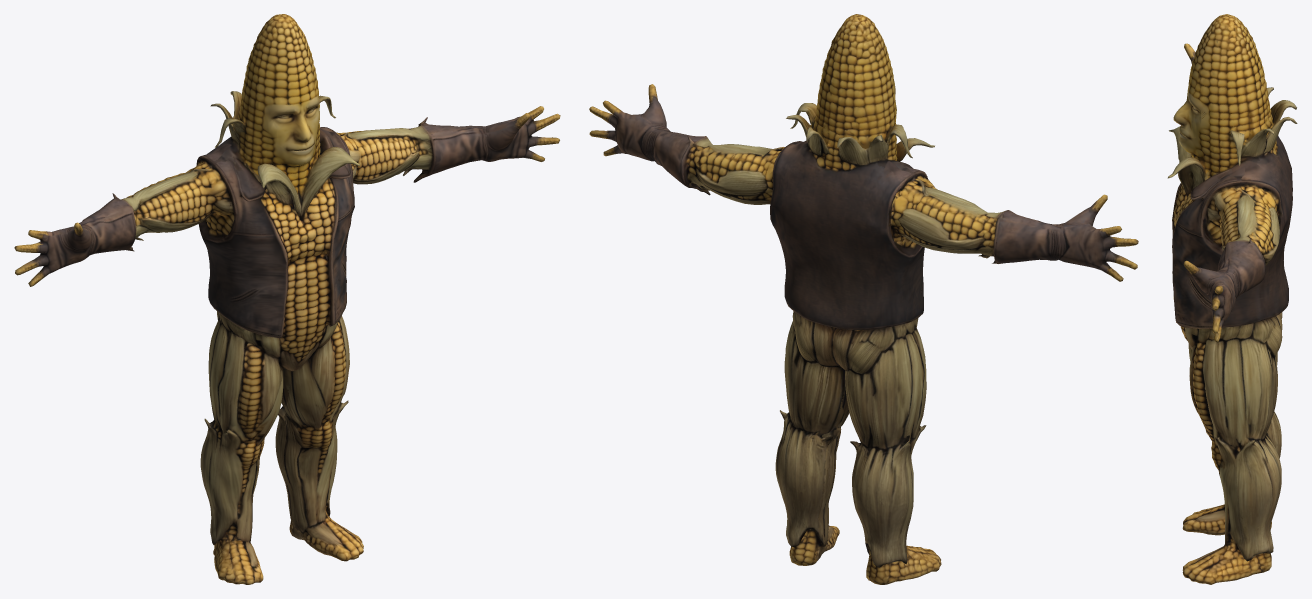
File: 0008_rig.fbx
3 views of the same model, side by side, from view 1: azimuth 30°, elevation 25°; view 2: azimuth 150°, elevation 25°; view 3: azimuth 270°, elevation 25° (orthographic).
Parts seen in each view (by area): view 1: body_geometry; view 2: body_geometry; view 3: body_geometry.
Part boxes in pixels (left/top/right/bottom): body_geometry: left=14, top=14, right=560, bottom=584; body_geometry: left=589, top=14, right=1138, bottom=584; body_geometry: left=1167, top=14, right=1297, bottom=584.
Bounding box in the file's own units: 2 × 1.9 × 0.4187.
1 material, 1 textured.
